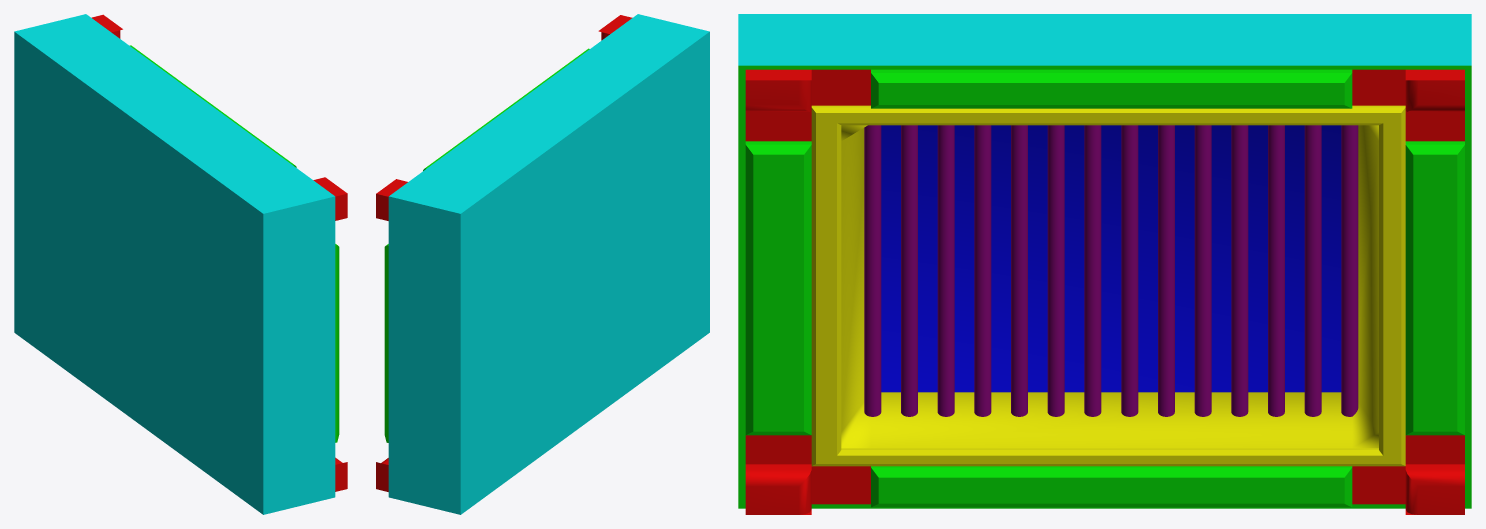
Rendered from BarredWindow.fbx.
The picture shows the model from 3 angles, left to right: view 1: azimuth 30°, elevation 25°; view 2: azimuth 150°, elevation 25°; view 3: azimuth 270°, elevation 25°; orthographic projection. The views are drawn at different scales.
Visible parts, largest first — view 1: WIndowBarred; view 2: WIndowBarred; view 3: WIndowBarred.
Boxes of the visible parts, x1,y1,x2,y2 form: WIndowBarred: (14, 14, 347, 514); WIndowBarred: (376, 14, 709, 514); WIndowBarred: (738, 14, 1471, 514).
Size of the model in its own units: 1.21 by 4 by 6.
